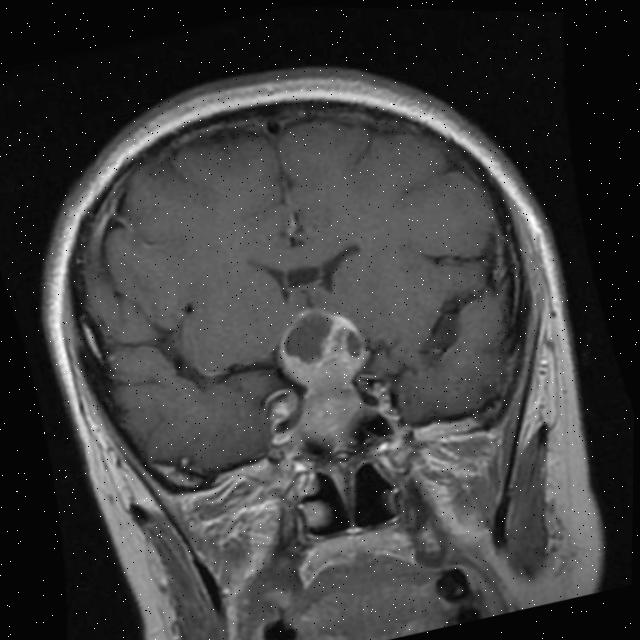Pituitary: (267, 293, 391, 457)
